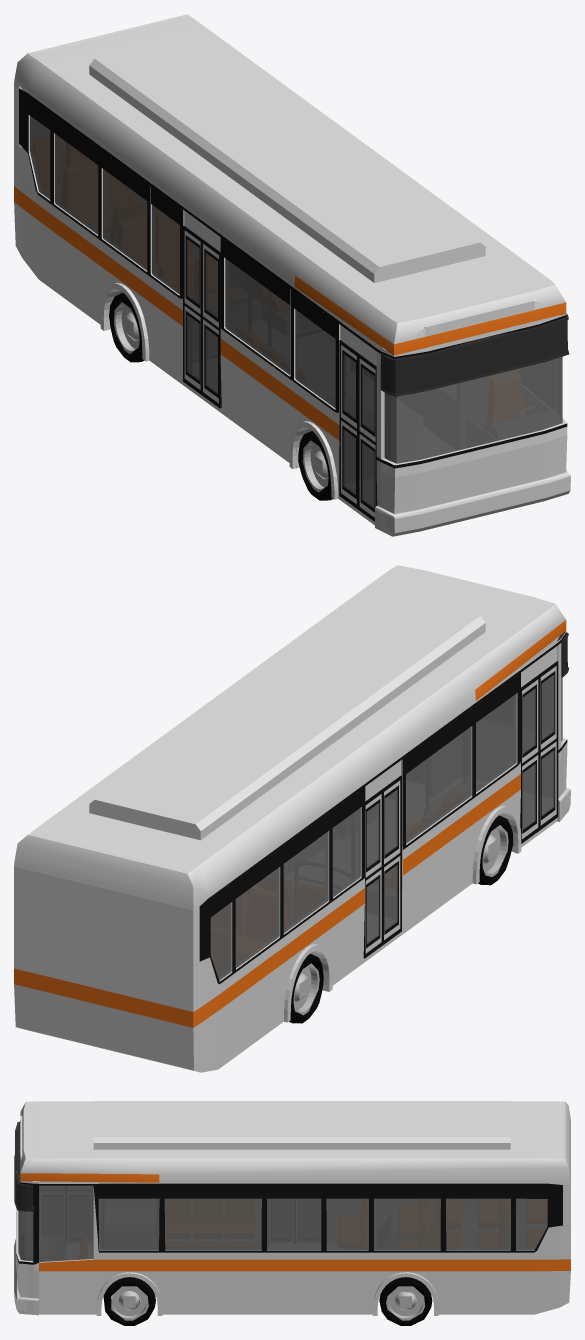
The model's file is lowpoly_bus-optimized.glb.
3 renders of one model, top to bottom at view 1: azimuth 30°, elevation 25°; view 2: azimuth 150°, elevation 25°; view 3: azimuth 270°, elevation 25°, orthographic. The views are drawn at different scales.
Visible parts, largest first — view 1: Object_4, Object_5, Object_7, Object_8, Object_12, Object_18, Object_22, Object_23, Object_19, Object_6, Object_10, Object_21 (+2 smaller); view 2: Object_4, Object_5, Object_7, Object_8, Object_18, Object_22, Object_19, Object_23, Object_17, Object_21, Object_6, Object_10 (+1 smaller); view 3: Object_4, Object_5, Object_7, Object_8, Object_9, Object_10, Object_6, Object_12.
Part boxes in pixels (x1,y1,x2,y2): Object_4: (14,14,570,536); Object_5: (30,116,562,463); Object_7: (19,88,567,468); Object_8: (14,186,566,440); Object_12: (380,313,569,396); Object_18: (343,354,374,508); Object_22: (187,239,217,393); Object_23: (183,226,221,408); Object_19: (339,340,377,521); Object_6: (100,282,338,499); Object_10: (113,302,328,492); Object_21: (184,211,220,403); Object_4: (14,565,570,1072); Object_5: (208,677,562,980); Object_7: (199,632,567,984); Object_8: (14,620,566,1027); Object_18: (523,675,554,829); Object_22: (366,789,397,944); Object_19: (520,661,558,843); Object_23: (362,775,401,958); Object_17: (521,646,557,838); Object_21: (365,760,400,953); Object_6: (284,805,521,1022); Object_10: (293,825,508,1015); Object_4: (14,1101,570,1315); Object_5: (18,1185,547,1262); Object_7: (16,1121,562,1264); Object_8: (20,1173,570,1271); Object_9: (103,1277,432,1325); Object_10: (111,1286,425,1320); Object_6: (96,1272,438,1315); Object_12: (14,1121,33,1211).
Bounding box in the file's own units: 6.21 × 7.59 × 21.74.
